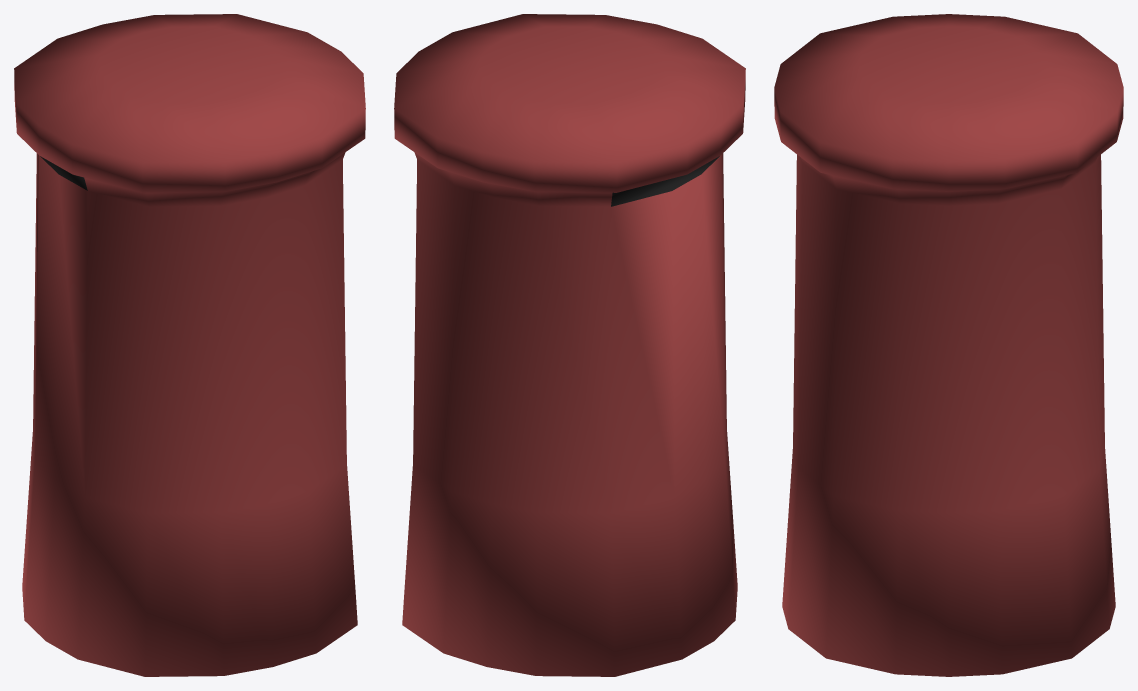
File: Postbox.fbx
3 renders of one model, left to right at view 1: azimuth 30°, elevation 25°; view 2: azimuth 150°, elevation 25°; view 3: azimuth 270°, elevation 25°, orthographic.
Visible parts, largest first — view 1: Letter_Box; view 2: Letter_Box; view 3: Letter_Box.
Part boxes in pixels (<box>): Letter_Box: <box>14,14,365,676</box>; Letter_Box: <box>394,14,745,676</box>; Letter_Box: <box>774,14,1123,676</box>.
Size of the model in its own units: 69.01 by 118 by 69.01.
